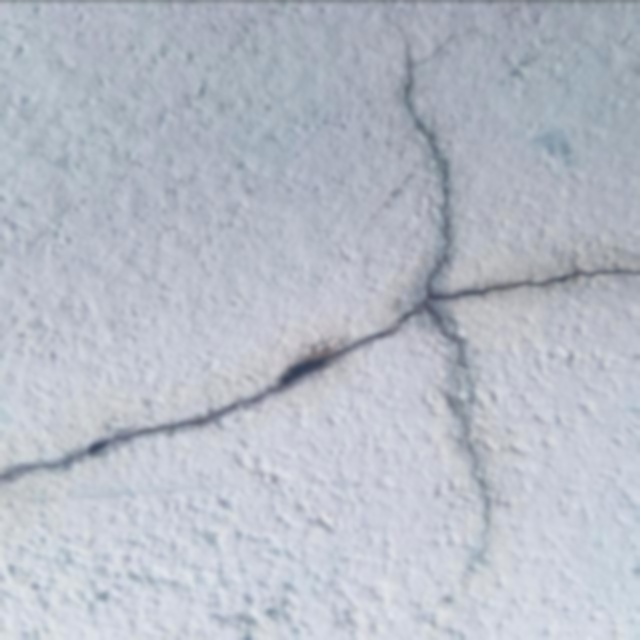SurfaceCrack: (1, 221, 640, 538)
